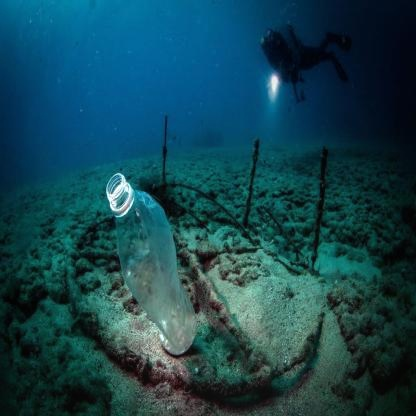metal: (88, 308, 339, 411), (175, 242, 271, 374), (169, 175, 241, 236), (258, 200, 306, 264), (314, 143, 329, 281), (242, 133, 261, 231), (155, 113, 172, 200)
pbottle: (100, 162, 202, 354)
